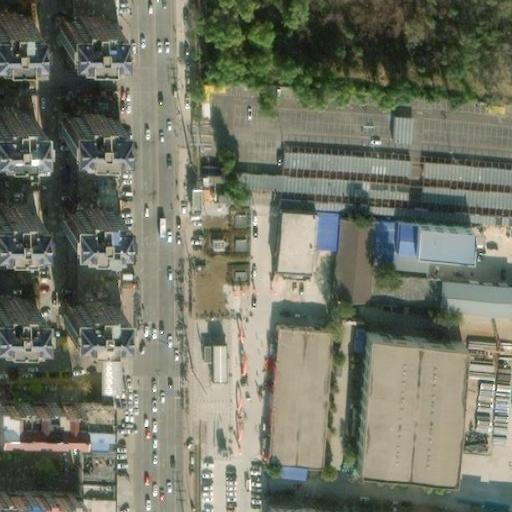building: (351, 329, 449, 472), (261, 325, 322, 464), (75, 398, 113, 512), (325, 213, 366, 297), (335, 149, 401, 197), (271, 144, 330, 191), (0, 396, 78, 429), (267, 210, 308, 270), (432, 276, 503, 310), (414, 155, 463, 202), (62, 8, 117, 49), (64, 193, 119, 234), (64, 103, 119, 144), (64, 293, 119, 334), (465, 159, 512, 205), (405, 221, 461, 256), (0, 487, 76, 512), (0, 292, 41, 333), (203, 342, 228, 382), (306, 212, 330, 246), (257, 500, 322, 512), (388, 219, 407, 252), (321, 504, 394, 512), (501, 281, 512, 310)
